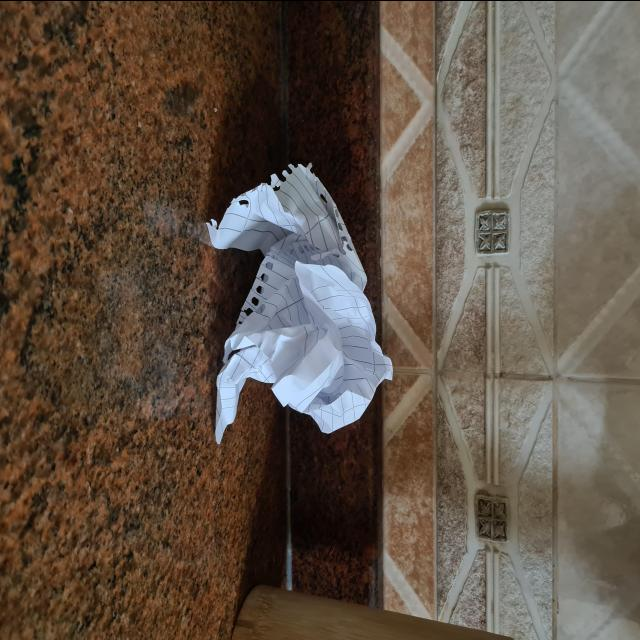kertas: (210, 145, 394, 439)
